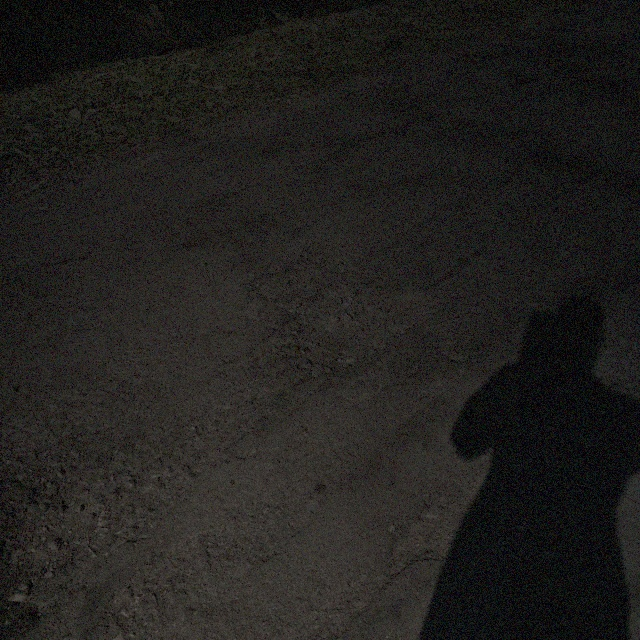pothole: (284, 280, 434, 378), (0, 487, 108, 597), (247, 238, 354, 300)
